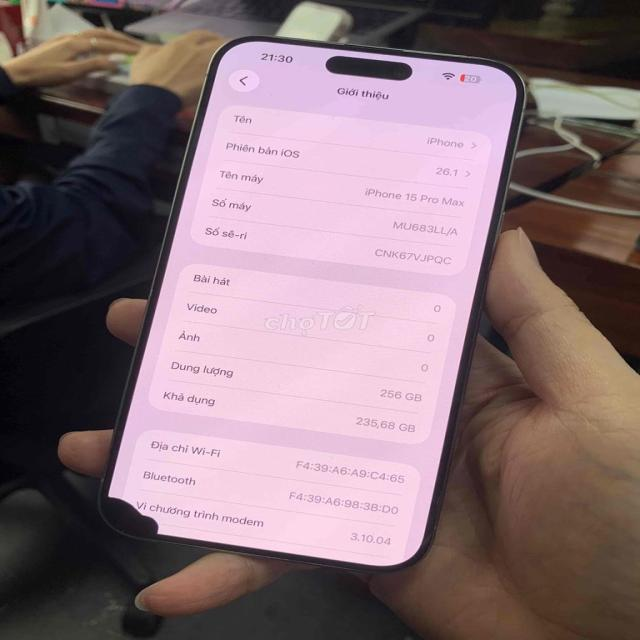gen_15: (107, 21, 532, 574)
